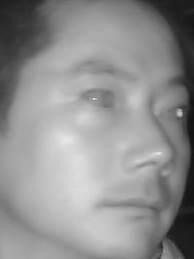eye: (77, 86, 121, 112), (160, 98, 190, 122)
mouth: (95, 187, 163, 226)
